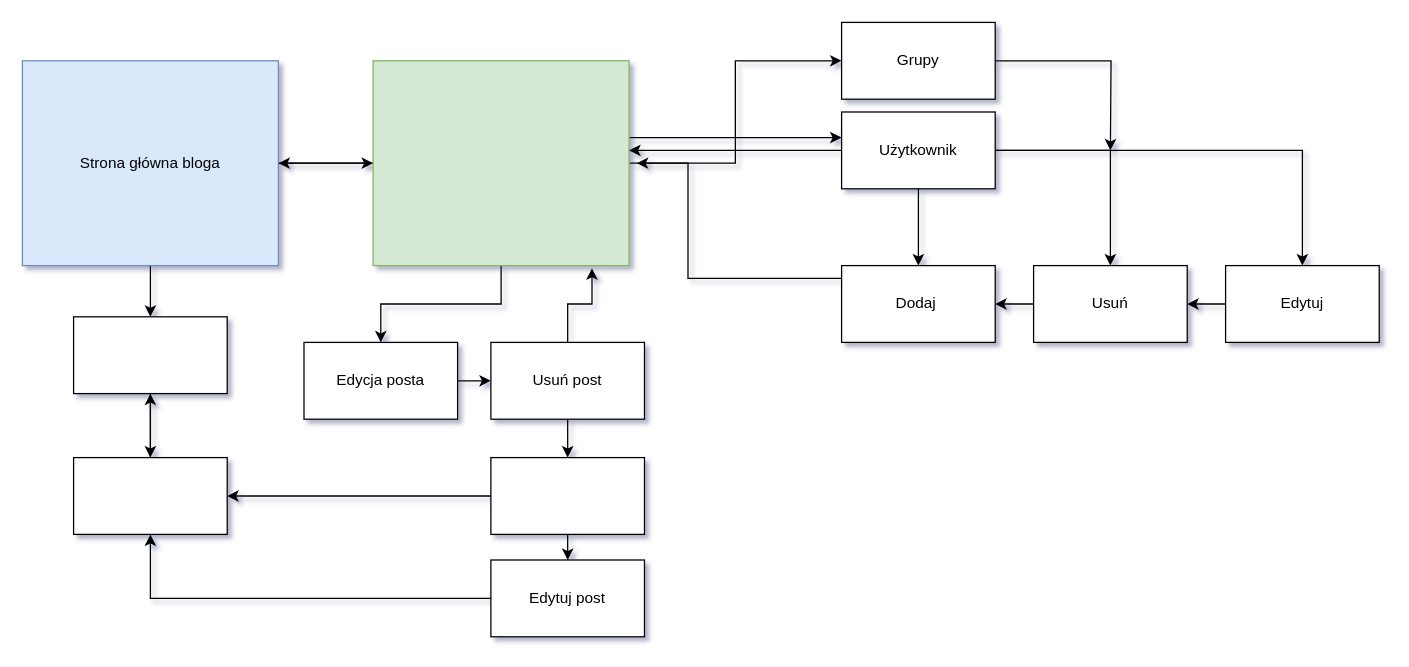
The diagram is 1409 pixels wide and 667 high, and some of its shapes have lost their labels. The box of each missing label's shape, as (x1, y1, x2, y2) in pixels:
Dodaj post: (490, 456, 644, 534)
Lista postów: (72, 316, 227, 394)
Panel Administracyjny: (372, 60, 629, 266)
POST: (72, 456, 227, 534)
